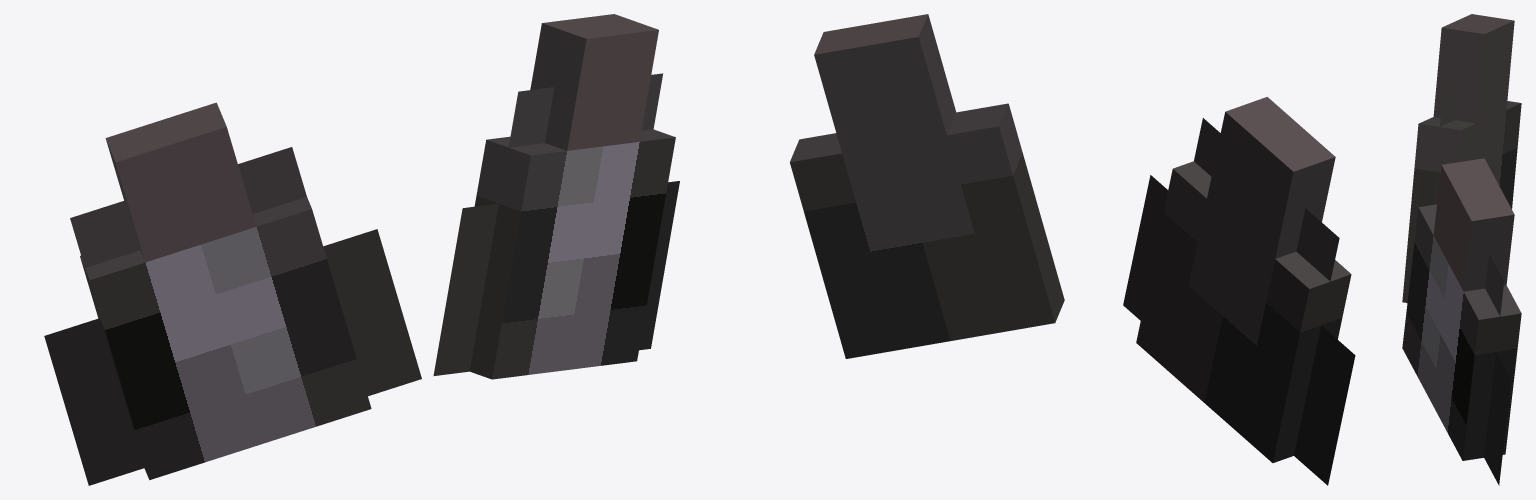
File: sl_cat_ears.glb
3 renders of one model, left to right at view 1: azimuth 30°, elevation 25°; view 2: azimuth 150°, elevation 25°; view 3: azimuth 270°, elevation 25°, orthographic. The views are drawn at different scales.
Visible parts, largest first — view 1: bb_cat_ears; view 2: bb_cat_ears; view 3: bb_cat_ears.
Part boxes in pixels (x1,y1,x2,y2): bb_cat_ears: [44, 14, 679, 485]; bb_cat_ears: [790, 14, 1355, 485]; bb_cat_ears: [1402, 14, 1521, 485].
Size of the model in its own units: 0.8468 by 0.4269 by 0.1635.
1 material, 1 textured.
